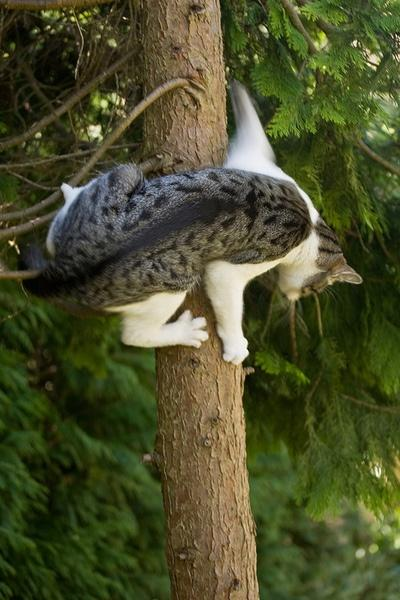kedo: (27, 82, 364, 365)
